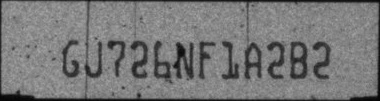1: (220, 39, 240, 79)
2: (129, 40, 149, 79), (312, 41, 331, 79), (267, 40, 285, 78)
6: (153, 39, 172, 77)
7: (107, 39, 125, 77)
A: (244, 41, 263, 79)
B: (288, 40, 308, 79)
F: (198, 40, 217, 79)
G: (61, 39, 80, 76)
J: (83, 37, 102, 77)
N: (175, 39, 194, 80)
